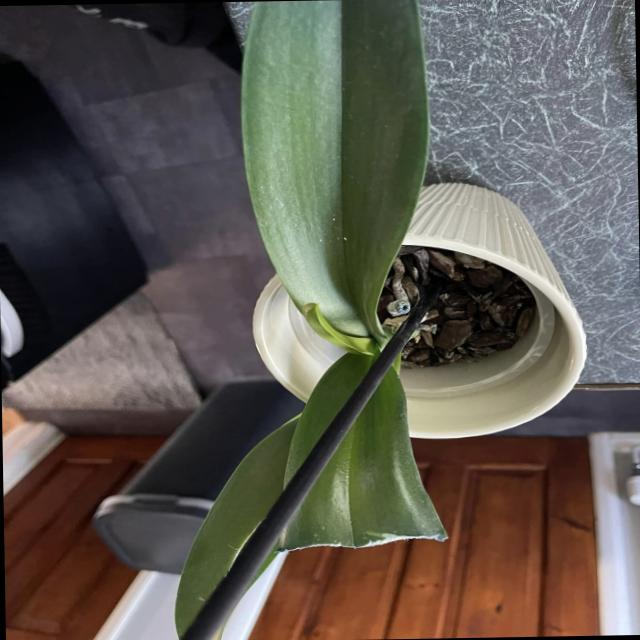leaf: (240, 0, 428, 341), (282, 371, 443, 548)
plant: (128, 0, 601, 632)
pot: (235, 173, 589, 454)
